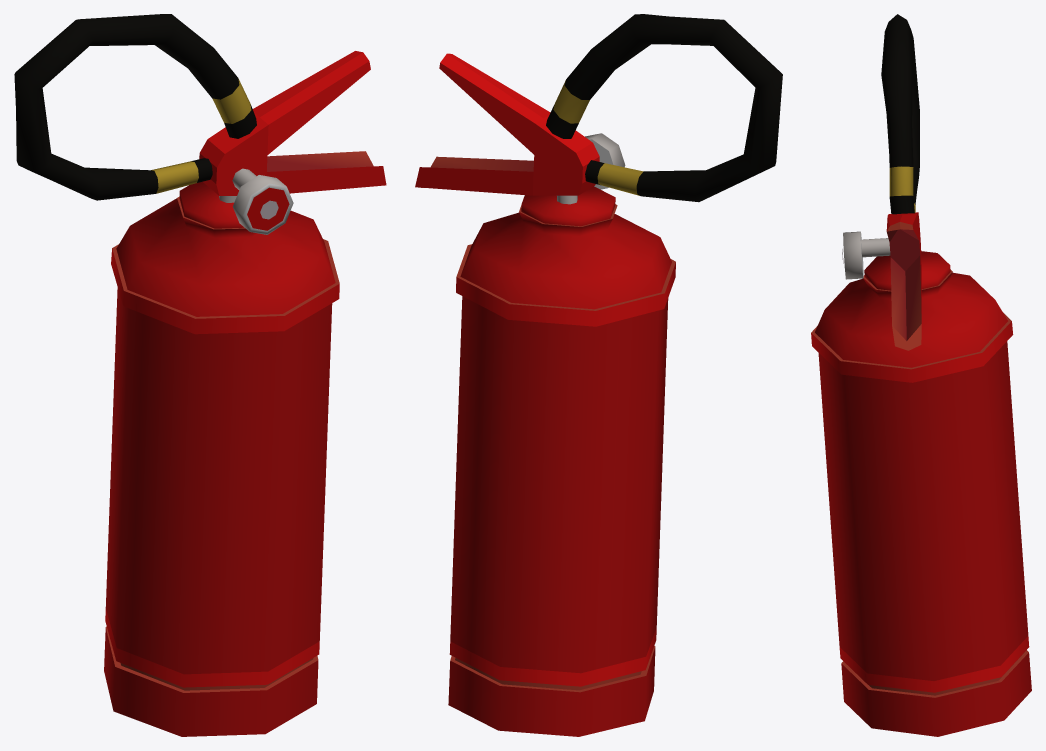
The model's file is ExtintorCinema.fbx.
3 renders of one model, left to right at view 1: azimuth 30°, elevation 25°; view 2: azimuth 150°, elevation 25°; view 3: azimuth 270°, elevation 25°, orthographic. The views are drawn at different scales.
Parts seen in each view (by area): view 1: ExtintorCinema; view 2: ExtintorCinema; view 3: ExtintorCinema.
Boxes of the visible parts, <box> form: ExtintorCinema: <box>14,14,386,736</box>; ExtintorCinema: <box>415,14,782,736</box>; ExtintorCinema: <box>811,14,1031,736</box>.
Bounding box in the file's own units: 45.59 × 86.02 × 27.65.
